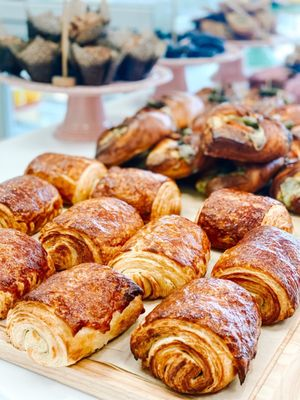salad: (0, 227, 51, 321), (270, 159, 300, 215)
